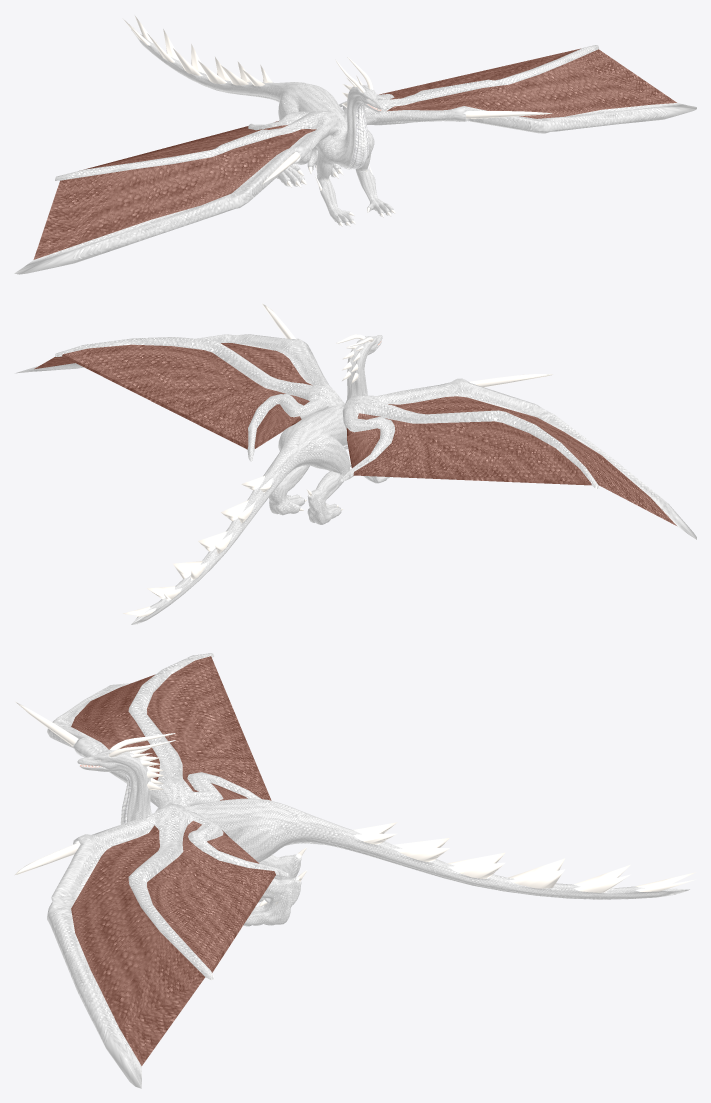
Rendered from dragon.glb.
3 views of the same model, one above another, from view 1: azimuth 30°, elevation 25°; view 2: azimuth 150°, elevation 25°; view 3: azimuth 270°, elevation 25° (orthographic). The views are drawn at different scales.
Parts seen in each view (by area): view 1: Cube_n3d; view 2: Cube_n3d; view 3: Cube_n3d.
Part boxes in pixels (x1=…): Cube_n3d: x1=14, y1=15, x2=696, y2=274; Cube_n3d: x1=14, y1=303, x2=696, y2=624; Cube_n3d: x1=14, y1=653, x2=695, y2=1088.
Bounding box in the file's own units: 153 × 30.78 × 109.
Materials: 3 (3 with a texture image).
